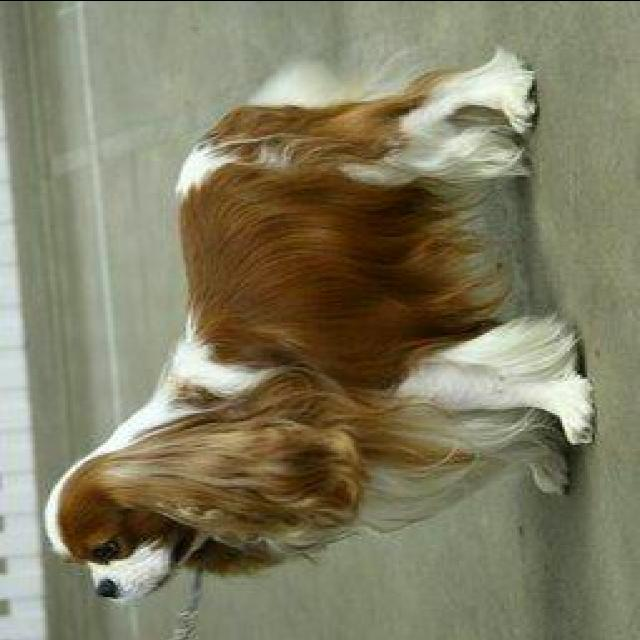blenheim_spaniel: (40, 42, 600, 604)
